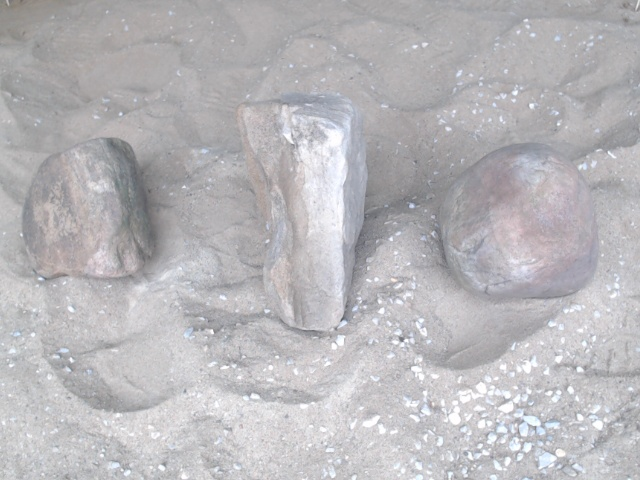rock: (231, 88, 374, 341), (433, 139, 603, 306), (17, 133, 159, 285)
